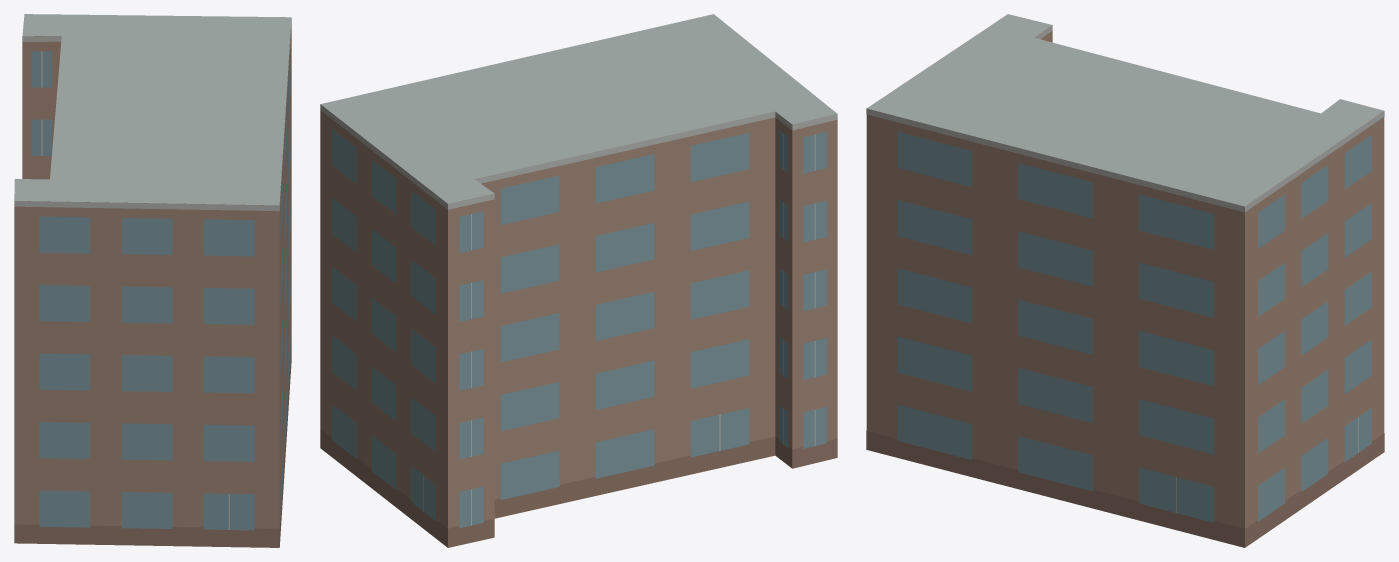
File: survey-upis-32730719.glb
3 views of the same model, side by side, from view 1: azimuth 30°, elevation 25°; view 2: azimuth 150°, elevation 25°; view 3: azimuth 270°, elevation 25° (orthographic).
Parts seen in each view (by area): view 1: survey-upis-32730719.tmp; view 2: survey-upis-32730719.tmp; view 3: survey-upis-32730719.tmp.
Boxes of the visible parts, left/top/right/bottom form: survey-upis-32730719.tmp: left=14, top=14, right=291, bottom=547; survey-upis-32730719.tmp: left=320, top=14, right=837, bottom=547; survey-upis-32730719.tmp: left=866, top=14, right=1384, bottom=547.
Size of the model in its own units: 17.43 by 14.4 by 19.81.
